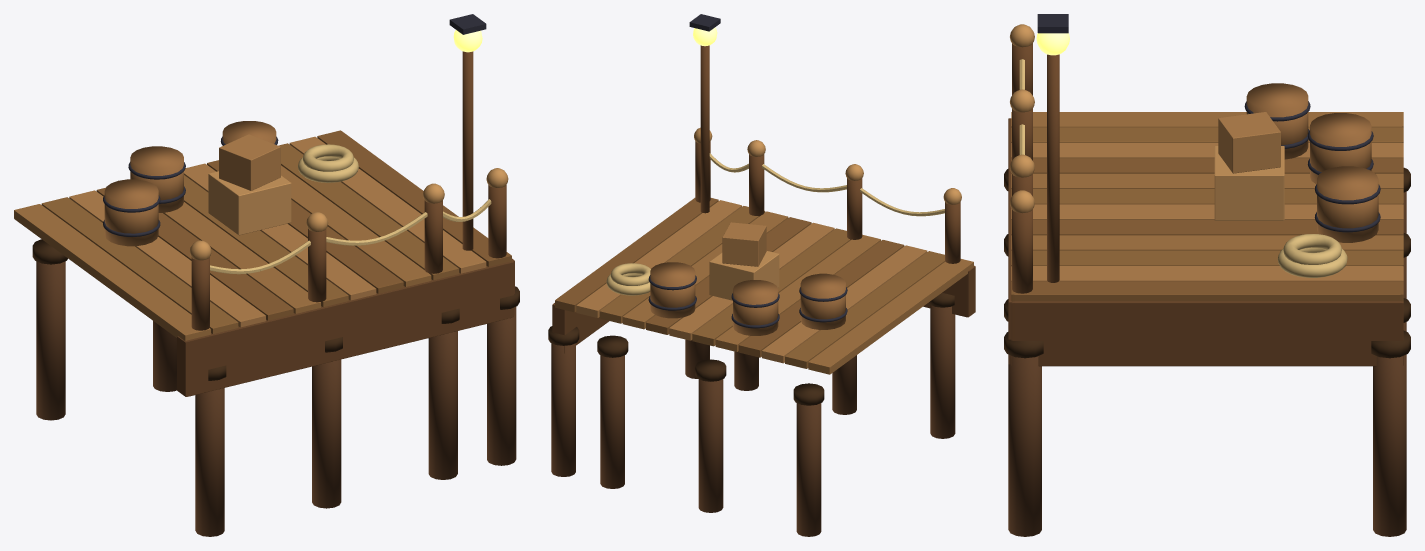
File: molo.glb
3 views of the same model, side by side, from view 1: azimuth 30°, elevation 25°; view 2: azimuth 150°, elevation 25°; view 3: azimuth 270°, elevation 25° (orthographic). The views are drawn at different scales.
Parts seen in each view (by area): view 1: Cube.012, Cube, Cylinder.002, Cylinder.012, Cylinder.004, Cylinder, Cylinder.008, Cube.001, Cube.014, Cube.004, Cube.009, Cube.008 (+20 smaller); view 2: Cube, Cylinder.002, Cylinder.006, Cylinder, Cube.001, Cylinder.010, Cylinder.014, Cube.011, Cube.010, Cube.002, Cube.005, Cube.003 (+24 smaller); view 3: Cube.013, Cube.011, Cylinder.014, Cylinder.012, Cube.010, Cube.008, Cube.007, Cube.009, Cylinder.058, Cube.014, Cube, Cube.006 (+19 smaller).
Boxes of the visible parts, left/top/right/bottom form: Cube.012: left=177, top=261, right=513, bottom=396; Cube: left=14, top=204, right=210, bottom=340; Cylinder.002: left=36, top=261, right=65, bottom=420; Cylinder.012: left=487, top=307, right=516, bottom=465; Cylinder.004: left=312, top=359, right=341, bottom=508; Cylinder: left=195, top=388, right=224, bottom=536; Cylinder.008: left=428, top=331, right=457, bottom=479; Cube.001: left=41, top=197, right=238, bottom=333; Cube.014: left=208, top=171, right=291, bottom=235; Cube.004: left=163, top=202, right=320, bottom=313; Cube.009: left=278, top=143, right=458, bottom=280; Cube.008: left=281, top=165, right=431, bottom=286; Cube: left=808, top=259, right=973, bottom=374; Cylinder.002: left=796, top=403, right=821, bottom=536; Cylinder.006: left=698, top=379, right=723, bottom=512; Cylinder: left=930, top=305, right=955, bottom=438; Cube.001: left=785, top=251, right=944, bottom=368; Cylinder.010: left=600, top=355, right=624, bottom=488; Cylinder.014: left=551, top=343, right=575, bottom=476; Cube.011: left=555, top=198, right=718, bottom=312; Cube.010: left=576, top=200, right=741, bottom=317; Cube.002: left=762, top=245, right=927, bottom=363; Cube.005: left=692, top=228, right=850, bottom=346; Cube.003: left=738, top=240, right=904, bottom=357; Cube.013: left=1011, top=301, right=1403, bottom=366; Cube.011: left=1011, top=281, right=1403, bottom=301; Cylinder.014: left=1373, top=354, right=1406, bottom=536; Cylinder.012: left=1008, top=355, right=1041, bottom=536; Cube.010: left=1011, top=266, right=1403, bottom=281; Cube.008: left=1011, top=235, right=1403, bottom=250; Cube.007: left=1011, top=220, right=1403, bottom=235; Cube.009: left=1011, top=250, right=1403, bottom=266; Cylinder.058: left=1317, top=166, right=1378, bottom=242; Cube.014: left=1214, top=146, right=1284, bottom=220; Cube: left=1011, top=112, right=1403, bottom=127; Cube.006: left=1011, top=204, right=1403, bottom=219.
Bounding box in the file's own units: 3.2 × 3.92 × 2.9.
